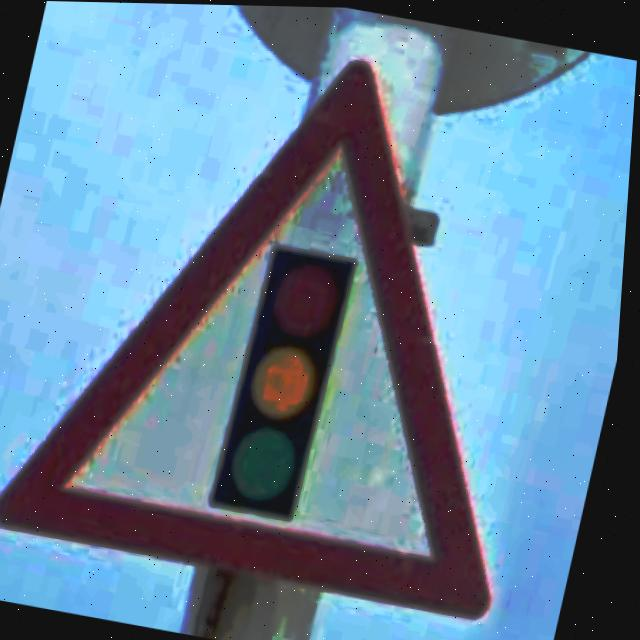signalahead: (0, 60, 498, 616)
